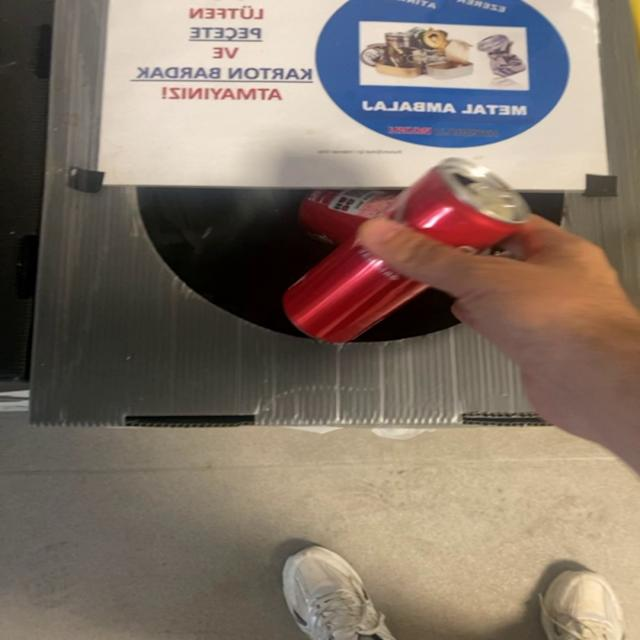bin: (31, 0, 542, 428), (527, 16, 638, 285), (127, 62, 312, 105)
metal: (284, 158, 530, 343)
